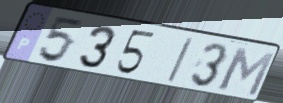3: (185, 42, 231, 89), (77, 24, 117, 70)
5: (36, 14, 88, 64), (115, 28, 159, 76)
I: (163, 36, 196, 85)
M: (216, 45, 278, 99)
